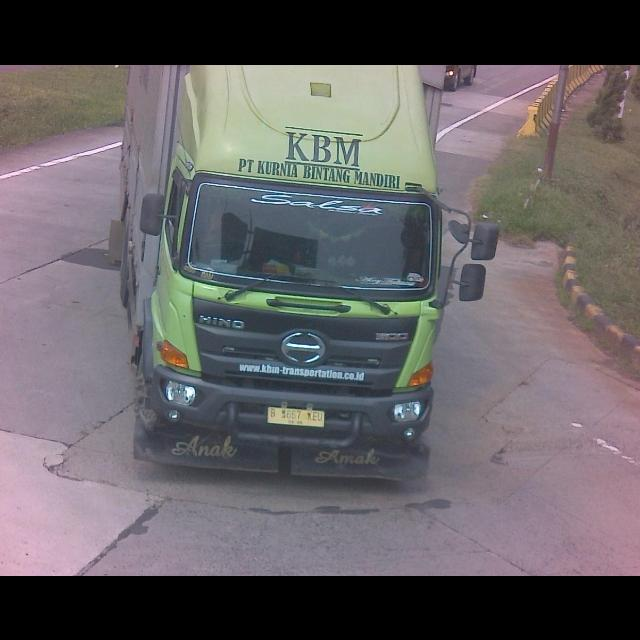plate: (265, 402, 329, 430)
